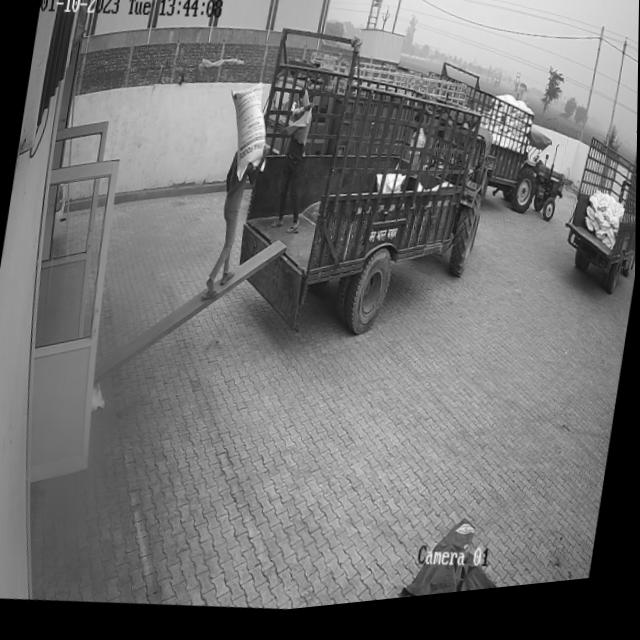sack: (218, 83, 275, 191)
